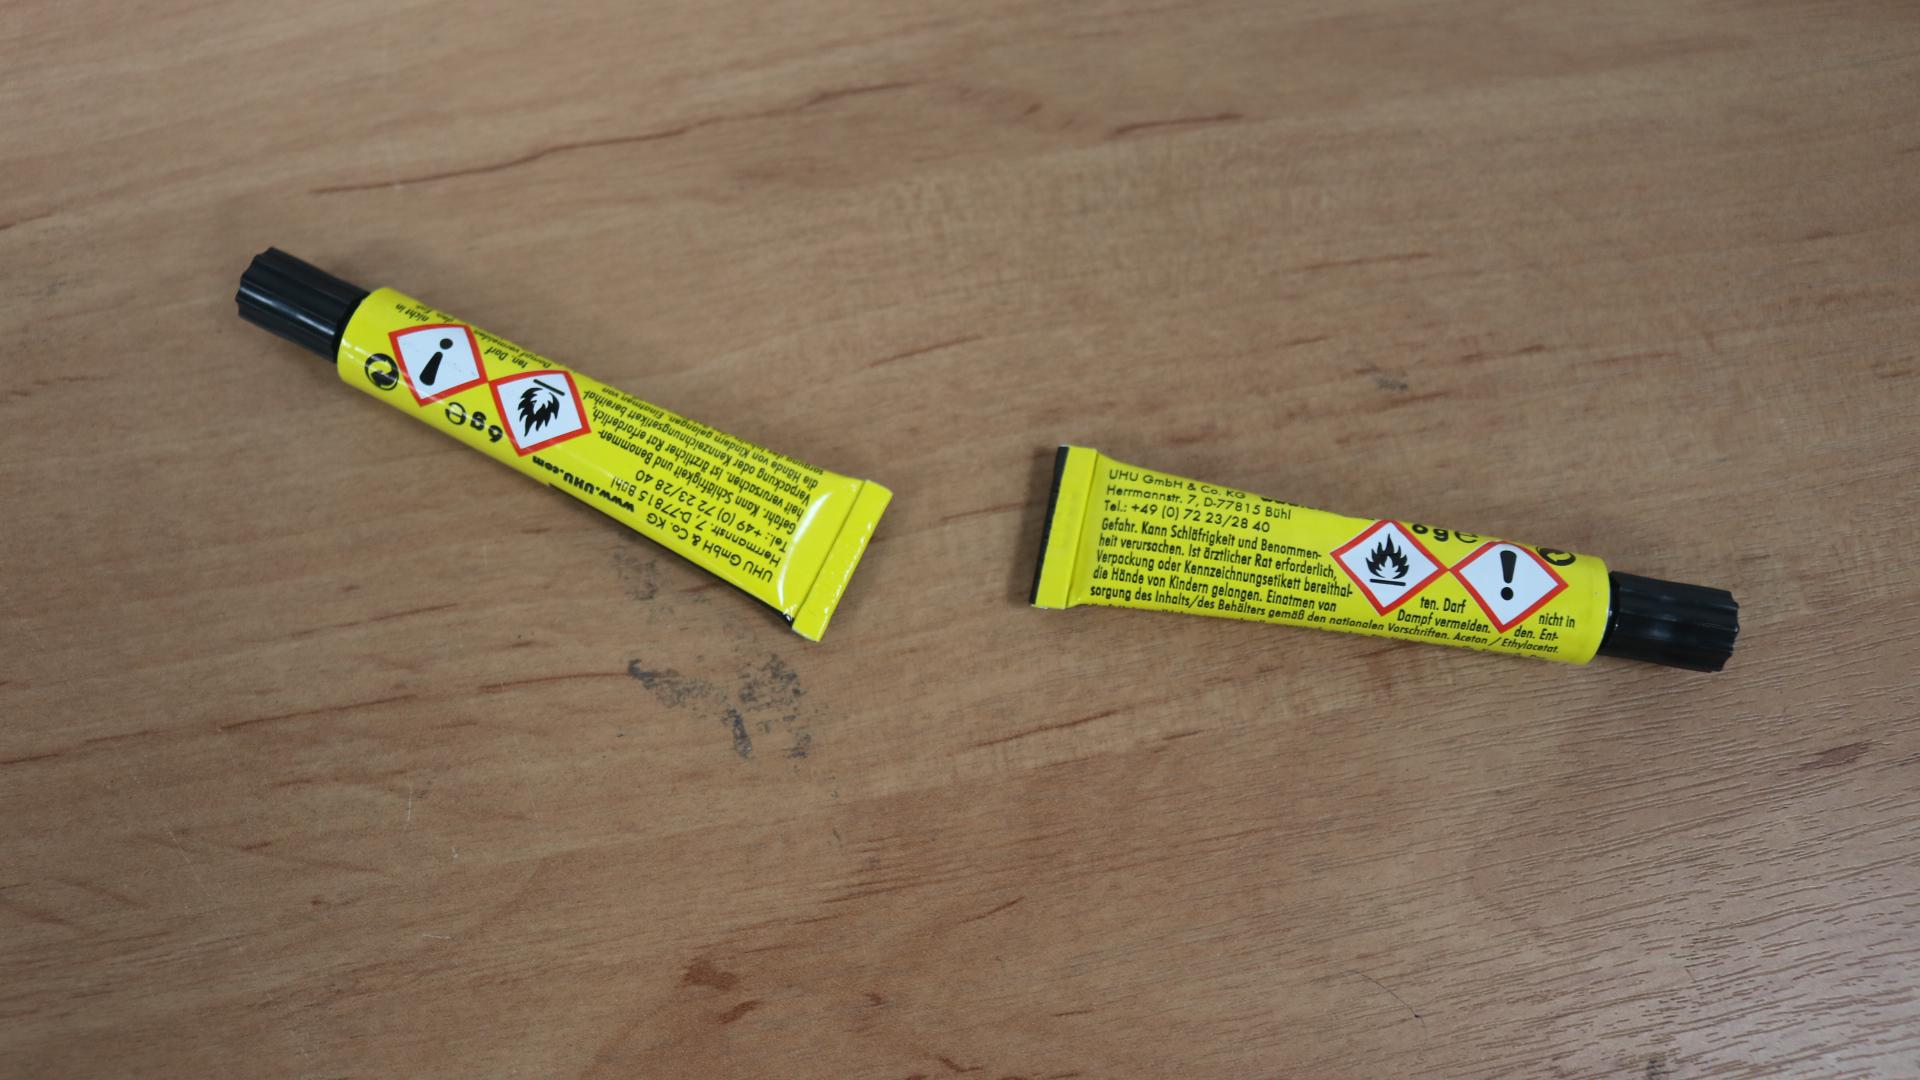Head: (1674, 616, 1680, 624), (297, 296, 302, 301)
Tail: (1060, 523, 1067, 530), (838, 558, 843, 563)
Tube: (235, 246, 893, 643), (1026, 443, 1741, 674)
